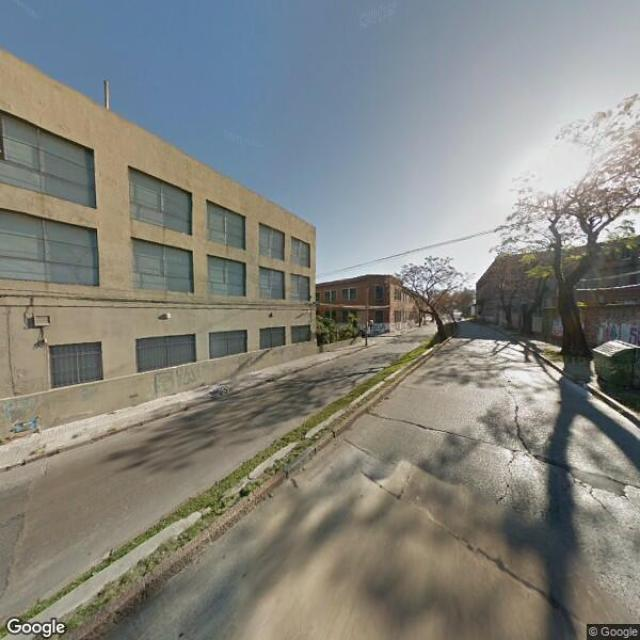garbage container: (587, 332, 640, 403)
